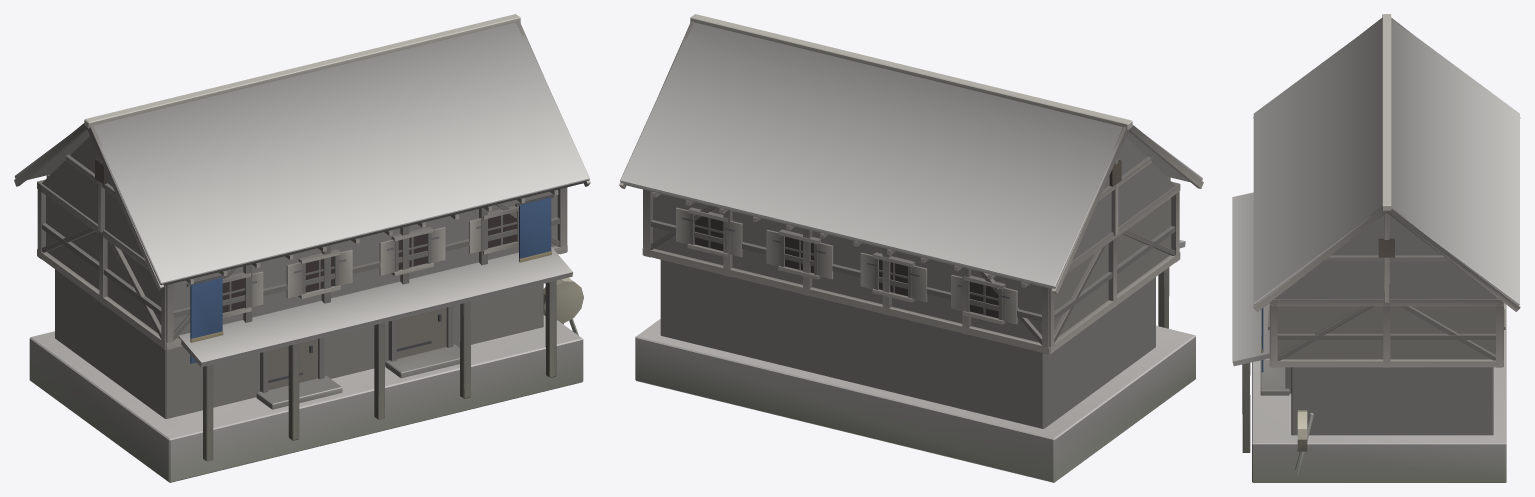
File: barracks_l1_lod0.glb
3 views of the same model, side by side, from view 1: azimuth 30°, elevation 25°; view 2: azimuth 150°, elevation 25°; view 3: azimuth 270°, elevation 25° (orthographic). The views are drawn at different scales.
Parts seen in each view (by area): view 1: barracks_l1_lod0; view 2: barracks_l1_lod0; view 3: barracks_l1_lod0.
Part boxes in pixels (box(x1,y1,x2,y2)): barracks_l1_lod0: box(14, 14, 590, 482); barracks_l1_lod0: box(619, 14, 1203, 482); barracks_l1_lod0: box(1232, 14, 1520, 482).
Bounding box in the file's own units: 12.56 × 8.31 × 7.69.
